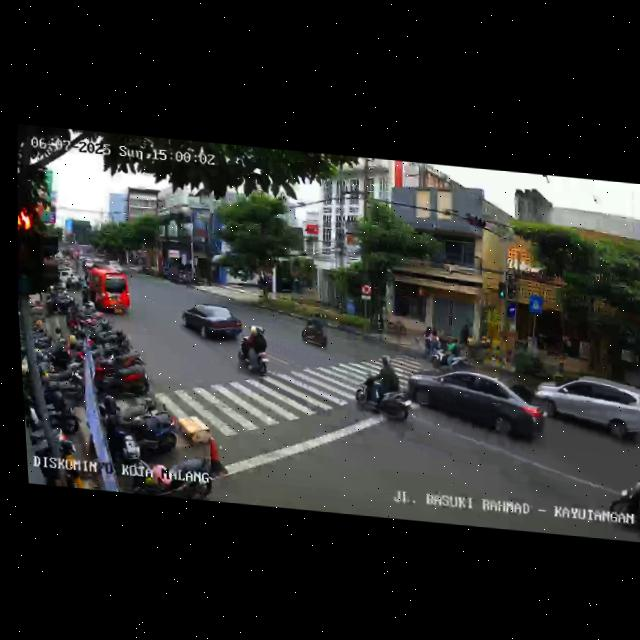car: (405, 363, 551, 445), (542, 369, 640, 447), (603, 467, 640, 545), (178, 302, 243, 346), (81, 266, 133, 318)
motorcycle: (351, 354, 415, 426), (234, 323, 272, 379), (430, 338, 474, 374), (298, 313, 331, 350)
